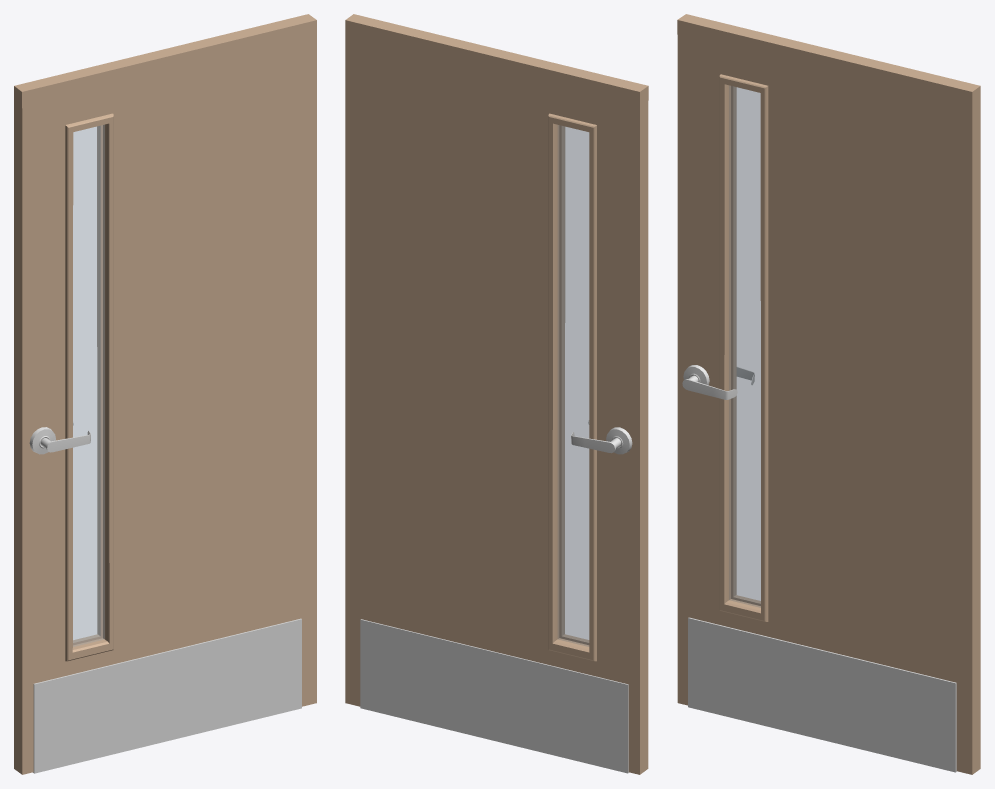
File: SM_Door.fbx
3 views of the same model, side by side, from view 1: azimuth 30°, elevation 25°; view 2: azimuth 150°, elevation 25°; view 3: azimuth 330°, elevation 25° (orthographic).
Visible parts, largest first — view 1: Door, bottom_plate, glass, door_handle_02; view 2: Door, bottom_plate, glass, door_handle_01; view 3: Door, bottom_plate, glass, door_handle_02.
Boxes of the visible parts, <box> form: Door: <box>14,14,316,774</box>; bottom_plate: <box>33,618,301,773</box>; glass: <box>73,125,104,646</box>; door_handle_02: <box>40,430,90,452</box>; Door: <box>345,14,648,774</box>; bottom_plate: <box>360,619,629,773</box>; glass: <box>558,125,589,646</box>; door_handle_01: <box>571,432,621,453</box>; Door: <box>677,14,980,774</box>; bottom_plate: <box>688,617,956,772</box>; glass: <box>729,85,760,607</box>; door_handle_02: <box>682,375,737,399</box>.
Bounding box in the file's own units: 90.31 × 200 × 15.18.
